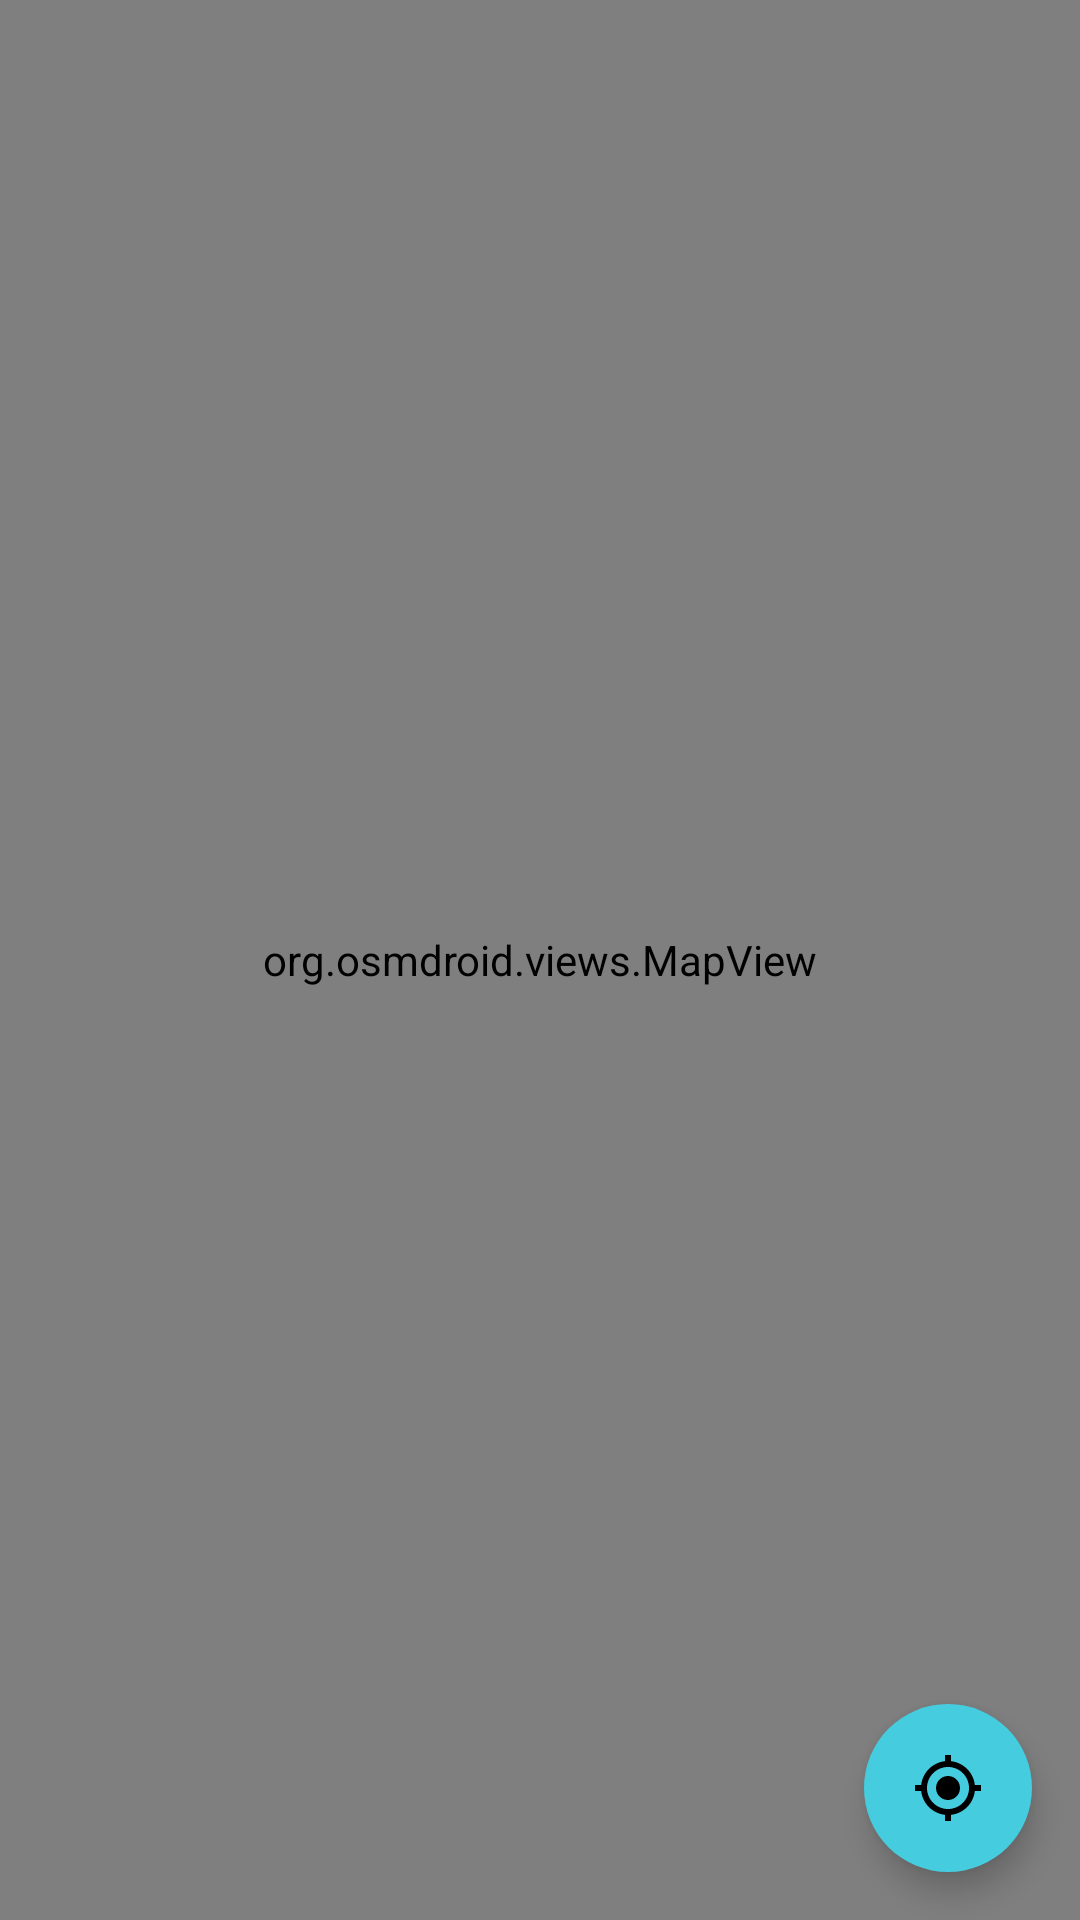

Icons on this 1080w x 1920h Android screen, each with its box as (x1, y1, x2, y2):
Show My Location: (864, 1704, 1032, 1872)
